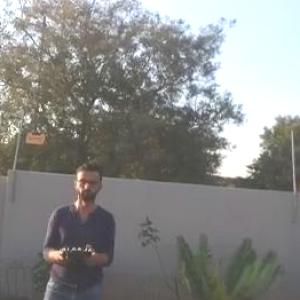follow: (33, 161, 119, 299)
